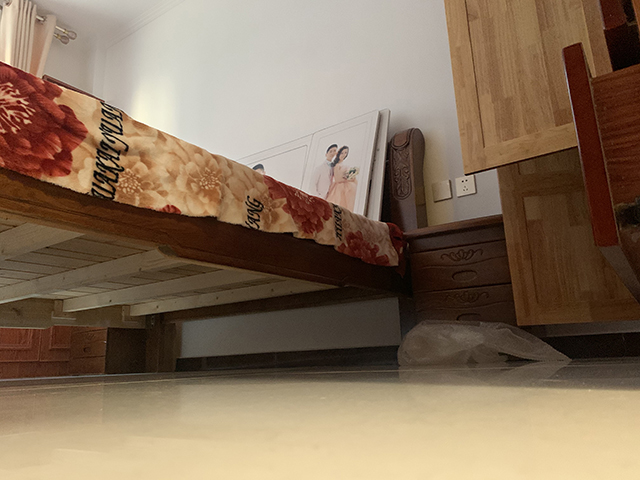bed: (1, 58, 425, 371)
cabinet: (68, 327, 146, 376), (1, 325, 68, 379)
